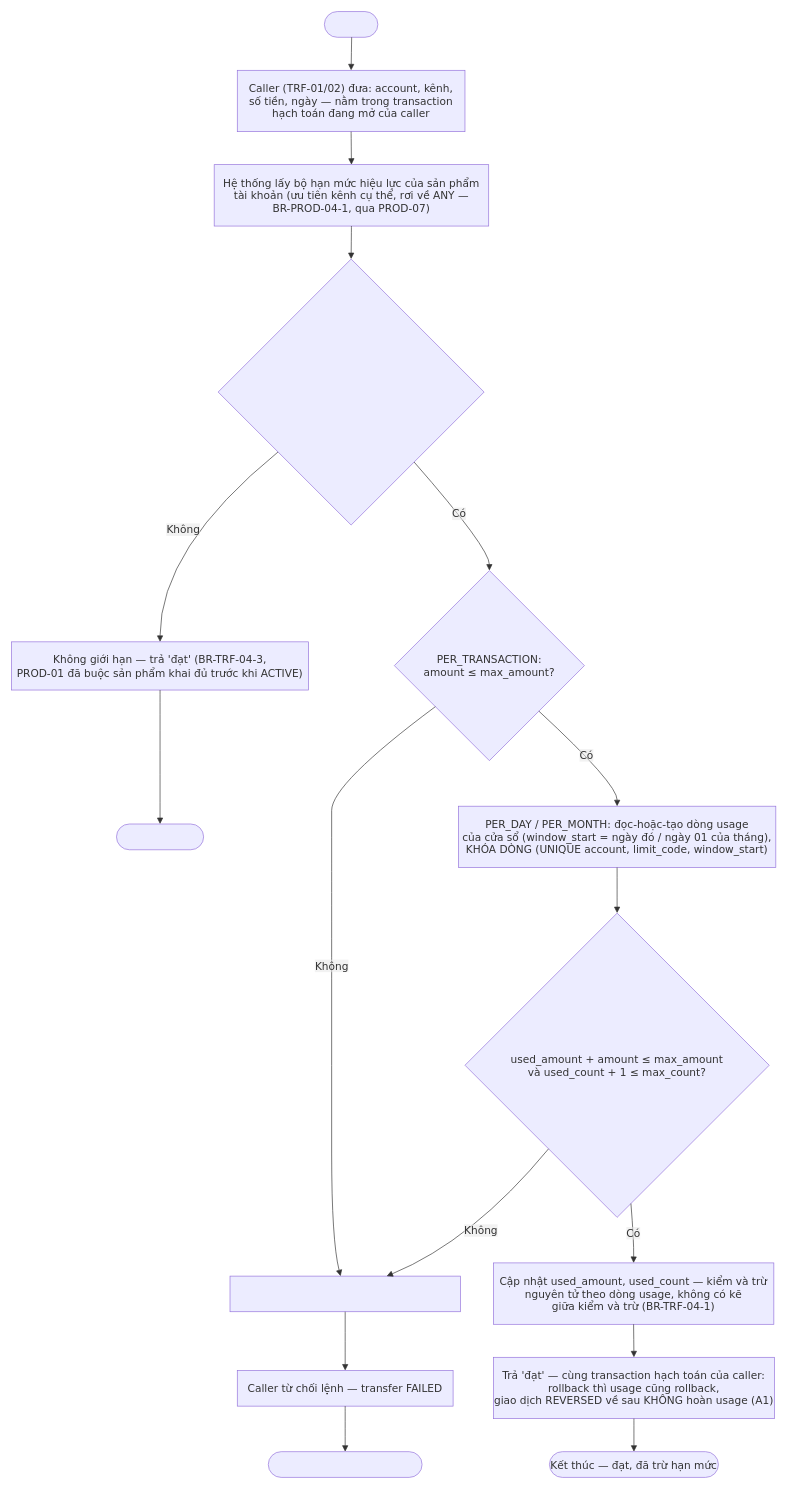
This 787x1489 diagram has some shape labels left out. Each missing label, with the centre of its shape:
"Bắt đầu" goes at point 351,24.
"Có dòng khuôn hạn mức áp dụng?" goes at point 350,391.
"Kết thúc — vi phạm hạn mức" goes at point 345,1464.
"Kết thúc — đạt" goes at point 160,836.
"Trả mã hạn mức vi phạm + phần còn lại" goes at point 344,1293.
